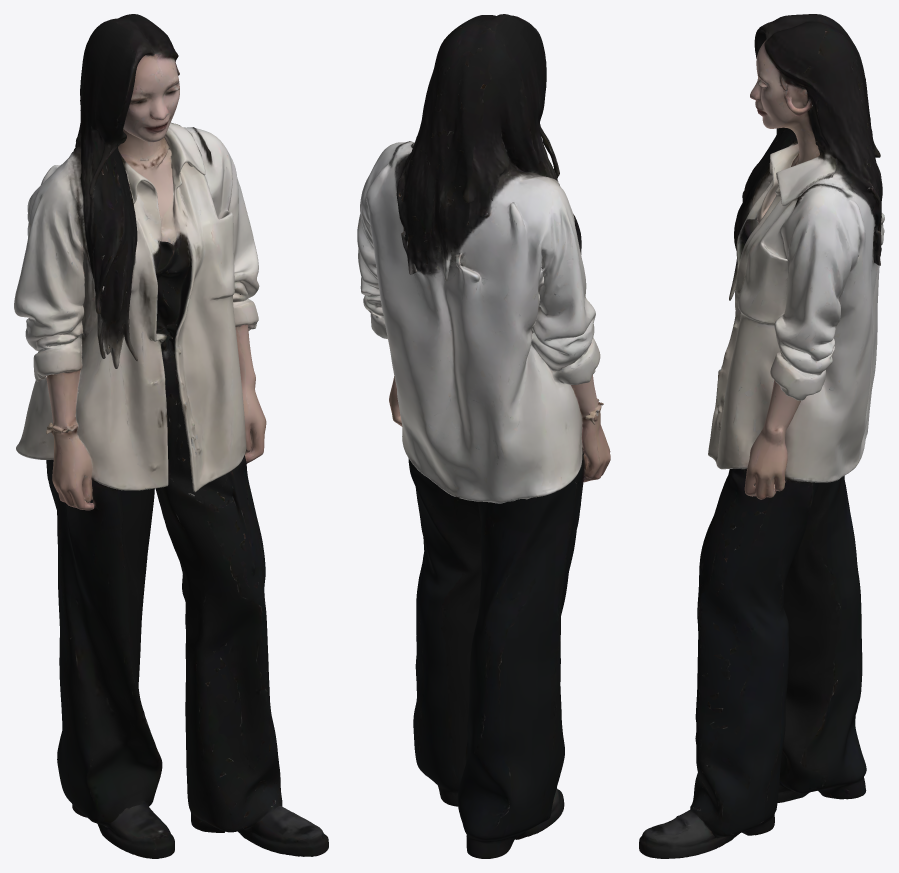
The picture shows the model from 3 angles, left to right: view 1: azimuth 30°, elevation 25°; view 2: azimuth 150°, elevation 25°; view 3: azimuth 270°, elevation 25°; orthographic projection. The views are drawn at different scales.
Parts seen in each view (by area): view 1: world; view 2: world; view 3: world.
Boxes of the visible parts, x1,y1,x2,y2 form: world: [14, 14, 328, 858]; world: [357, 14, 610, 858]; world: [639, 14, 884, 858].
Bounding box in the file's own units: 0.3019 × 1 × 0.2854.
Materials: 1 (1 with a texture image).
